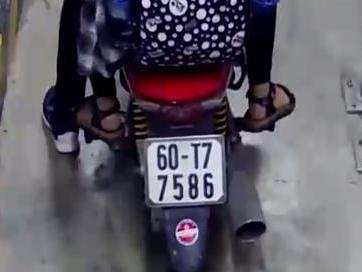num_plate: (145, 136, 226, 205)
